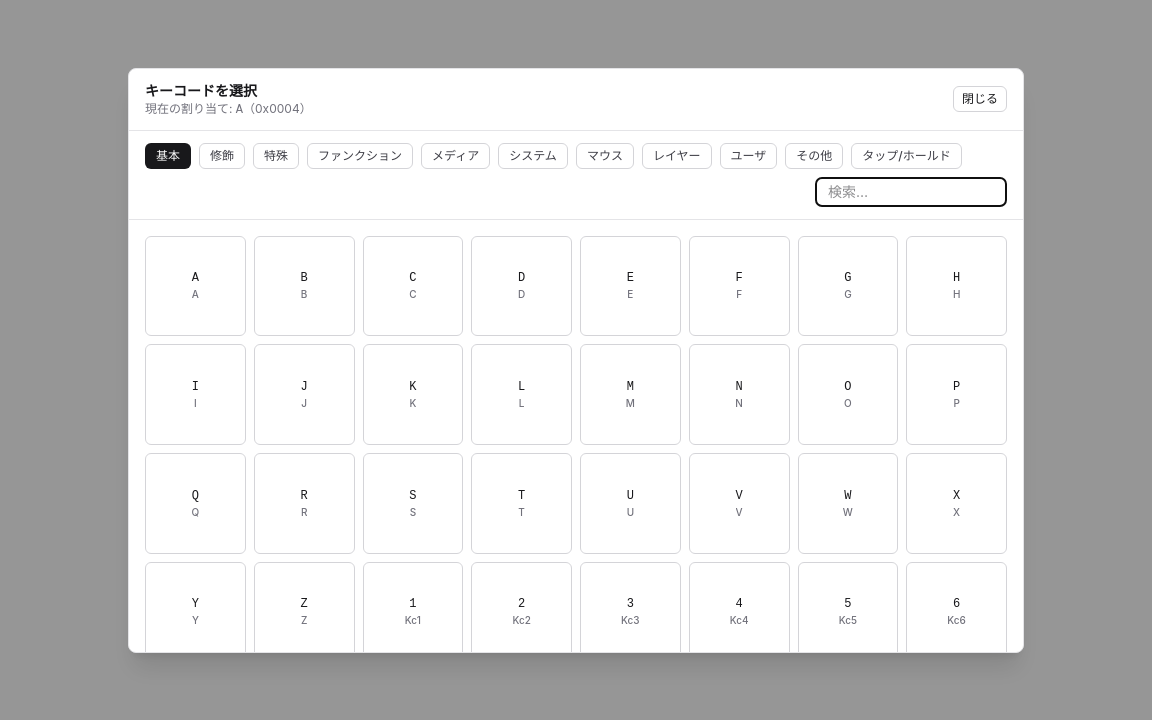
KeycodePicker › switches catalogue when a tab is clicked
Click the button "メディア".
click(456, 156)  # box left=421, top=142, right=490, bottom=168
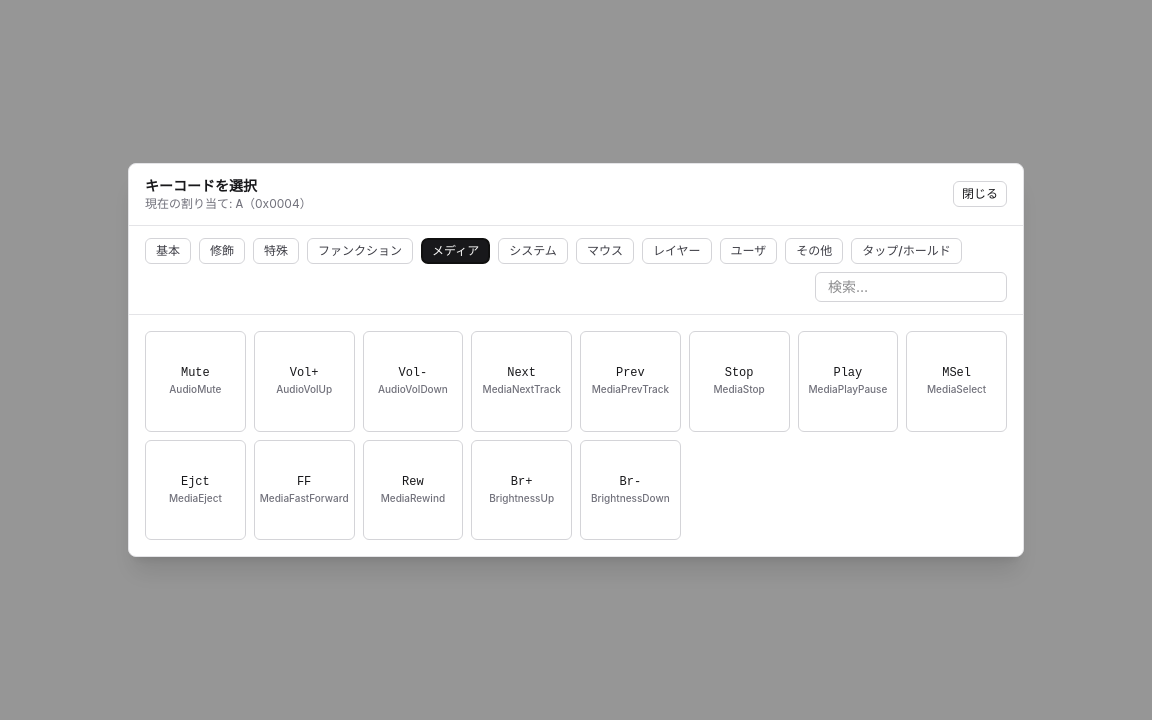
Result: the text "AudioMute" is shown at left=169, top=384, right=222, bottom=397
